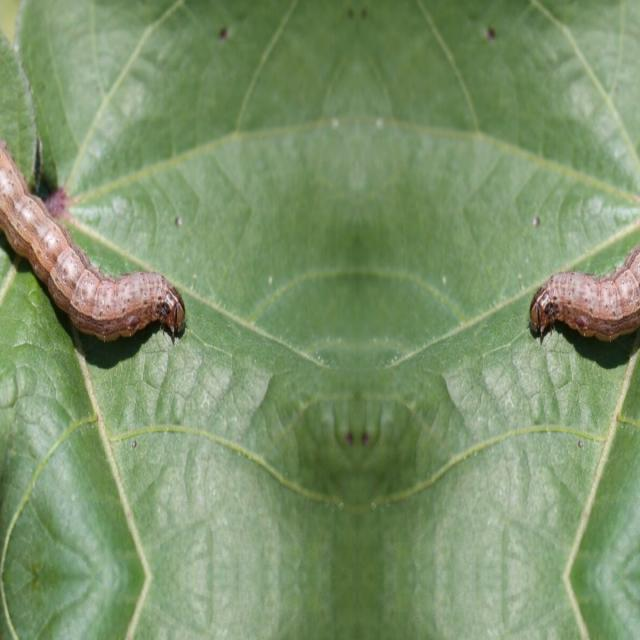armyworm: (0, 137, 186, 344), (528, 242, 639, 344)
